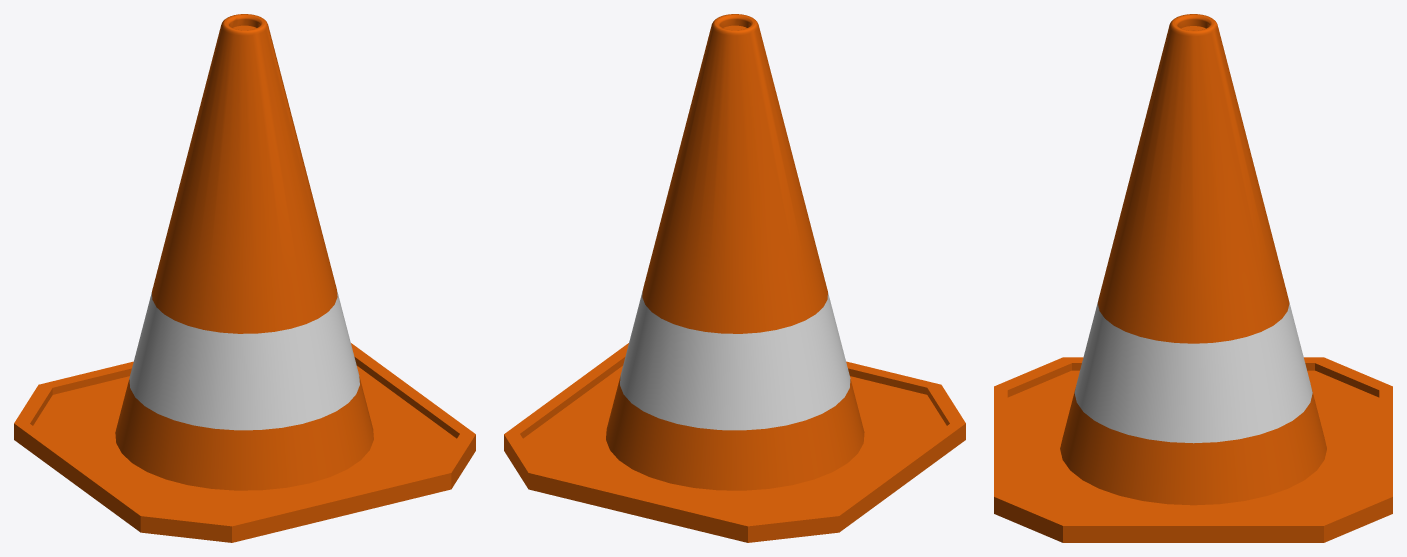
The model's file is EP_TrafficCone_001.fbx.
3 renders of one model, left to right at view 1: azimuth 30°, elevation 25°; view 2: azimuth 150°, elevation 25°; view 3: azimuth 270°, elevation 25°, orthographic. The views are drawn at different scales.
Visible parts, largest first — view 1: Cone; view 2: Cone; view 3: Cone.
Part boxes in pixels (box(x1,y1,x2,y2)): Cone: box(14, 14, 475, 542); Cone: box(504, 14, 965, 542); Cone: box(994, 14, 1392, 542).
Size of the model in its own units: 155 by 187 by 155.
